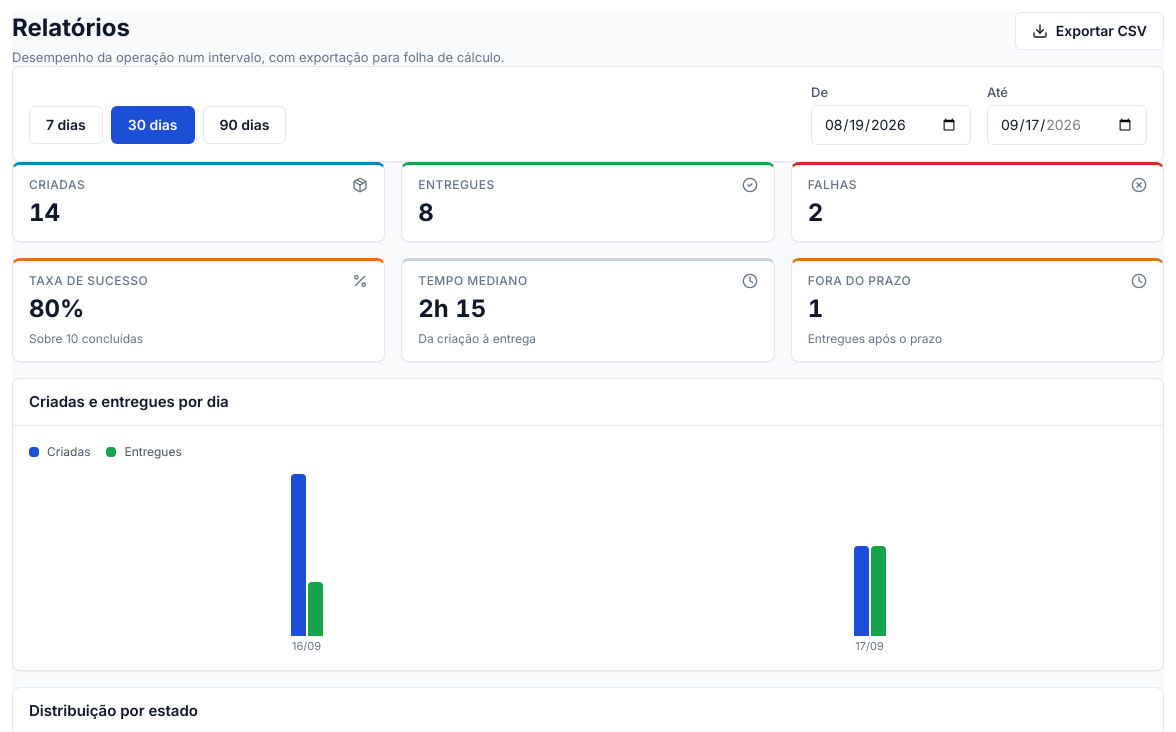
it: Reports › downloads the export and confirms it
Expected: the text "14" is shown, [29,198,60,227]
Click the button "Exportar CSV" at (1089, 31), box [1015,12,1164,50]
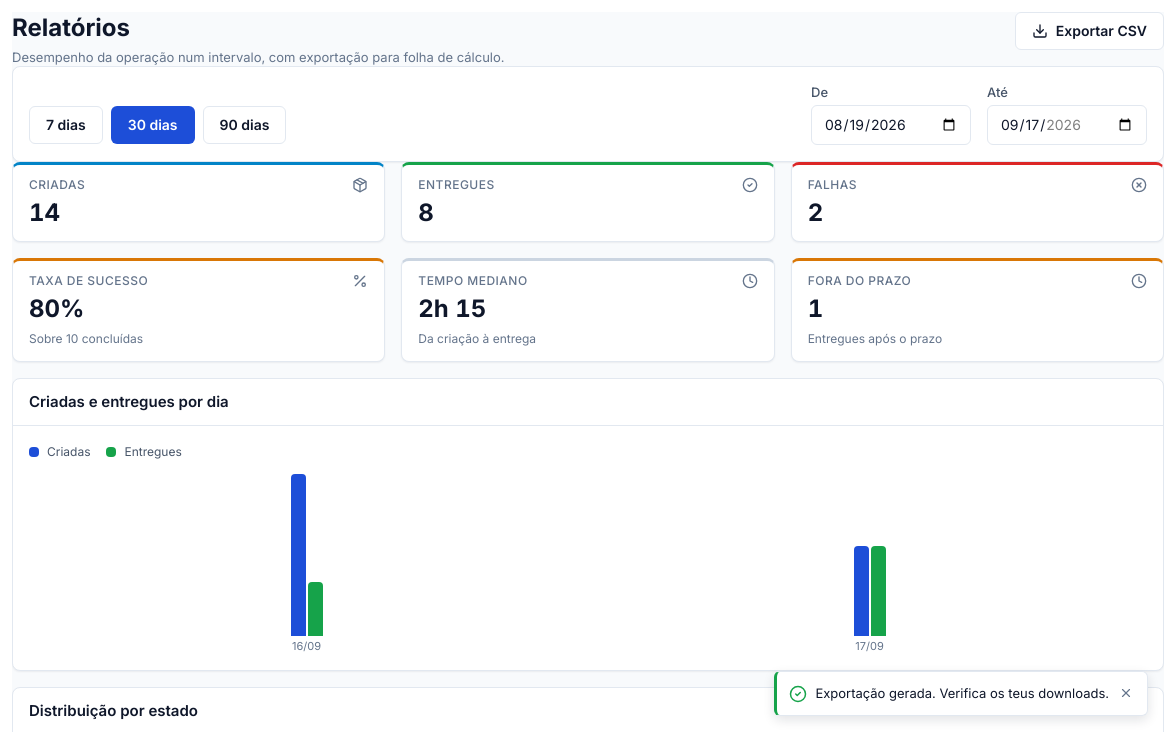
Result: the text "Exportação gerada. Verifica os teus downloads." is shown at [815,684,1109,702]
